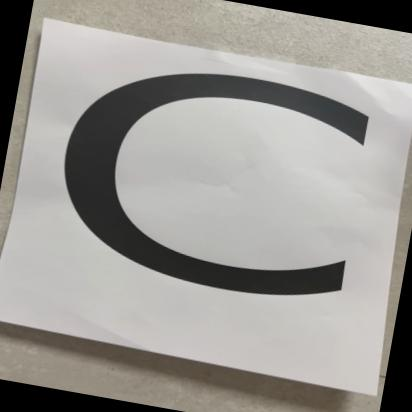seat: (7, 24, 412, 398)
